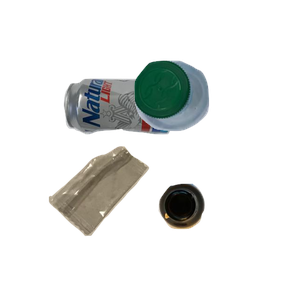glass: (156, 181, 300, 300)
metal: (61, 75, 231, 202)
plastic: (132, 58, 300, 182)
trash: (46, 144, 188, 300)
